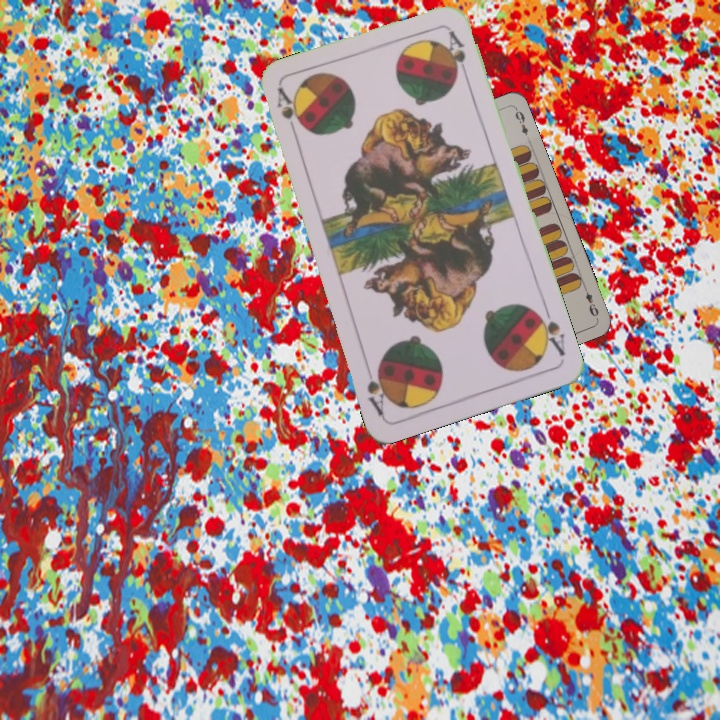E9: (579, 281, 601, 319)
SA: (530, 303, 568, 359), (272, 84, 302, 142)
